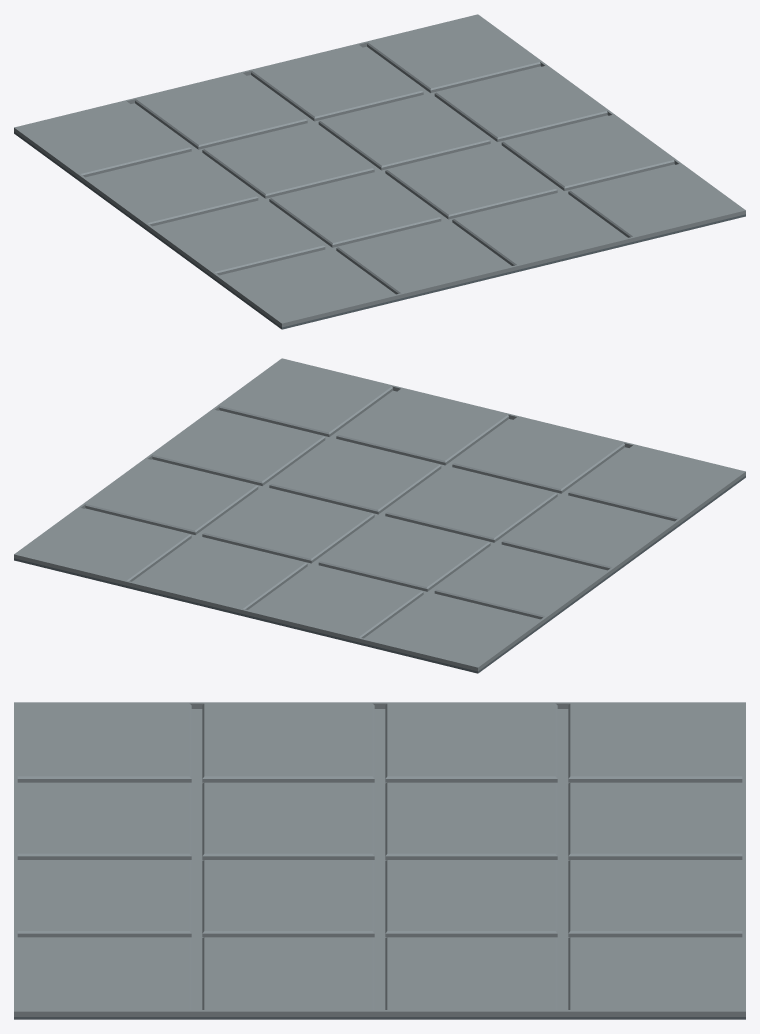
The model's file is sidewalk-tile.glb.
3 views of the same model, one above another, from view 1: azimuth 30°, elevation 25°; view 2: azimuth 150°, elevation 25°; view 3: azimuth 270°, elevation 25° (orthographic). The views are drawn at different scales.
Parts seen in each view (by area): view 1: sidewalk-surface; view 2: sidewalk-surface; view 3: sidewalk-surface.
Part boxes in pixels (<box>): sidewalk-surface: <box>14,14,745,329</box>; sidewalk-surface: <box>14,358,745,673</box>; sidewalk-surface: <box>14,702,745,1019</box>.
Bounding box in the file's own units: 4 × 0.05 × 4.
